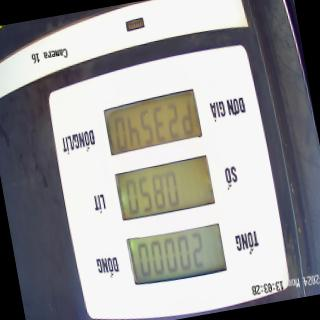screen: (98, 87, 232, 291)
